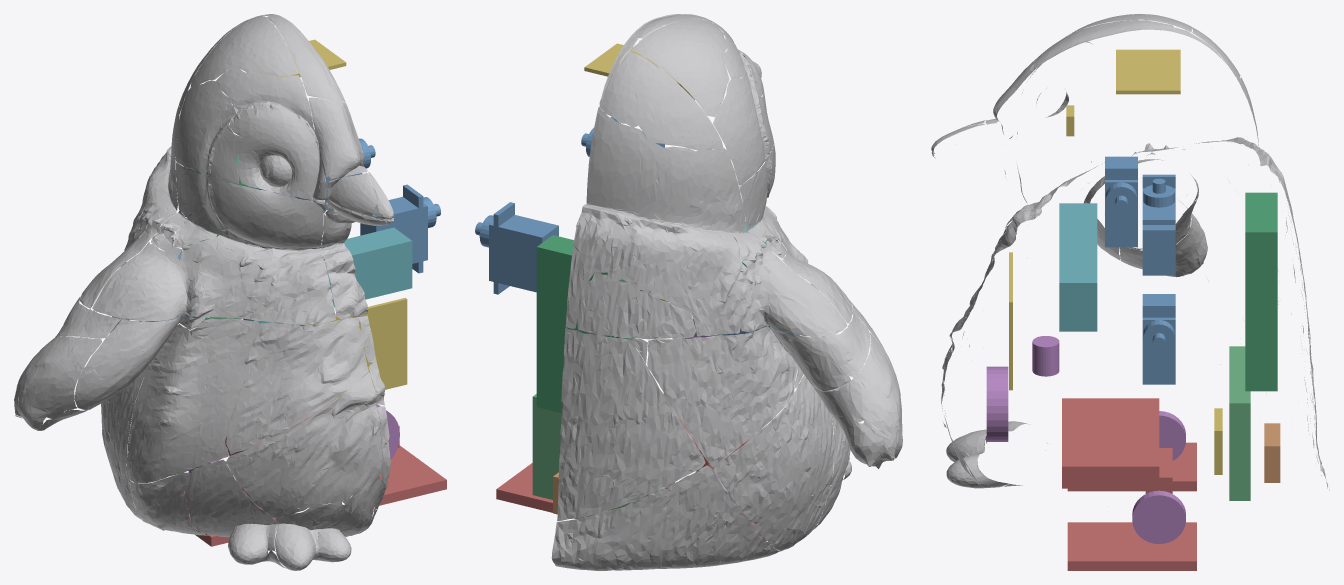
File: fit-preview.glb
The picture shows the model from 3 angles, left to right: view 1: azimuth 30°, elevation 25°; view 2: azimuth 150°, elevation 25°; view 3: azimuth 270°, elevation 25°; orthographic projection. The views are drawn at different scales.
Parts seen in each view (by area): view 1: stereo camera; view 2: stereo camera; view 3: stereo camera.
Part boxes in pixels (<box>): stereo camera: <box>14,14,446,570</box>; stereo camera: <box>475,14,902,570</box>; stereo camera: <box>931,14,1329,570</box>.
Size of the model in its own units: 0.1818 by 0.1997 by 0.1479.
